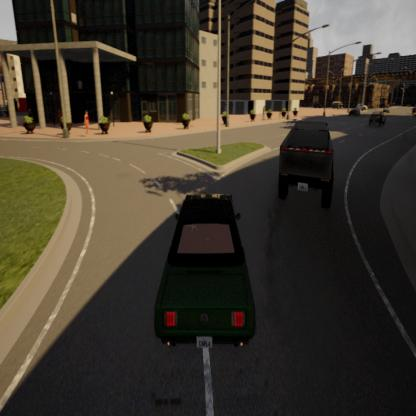Cars: (140, 188, 263, 359), (274, 115, 340, 212), (368, 109, 388, 127), (348, 106, 362, 119)
